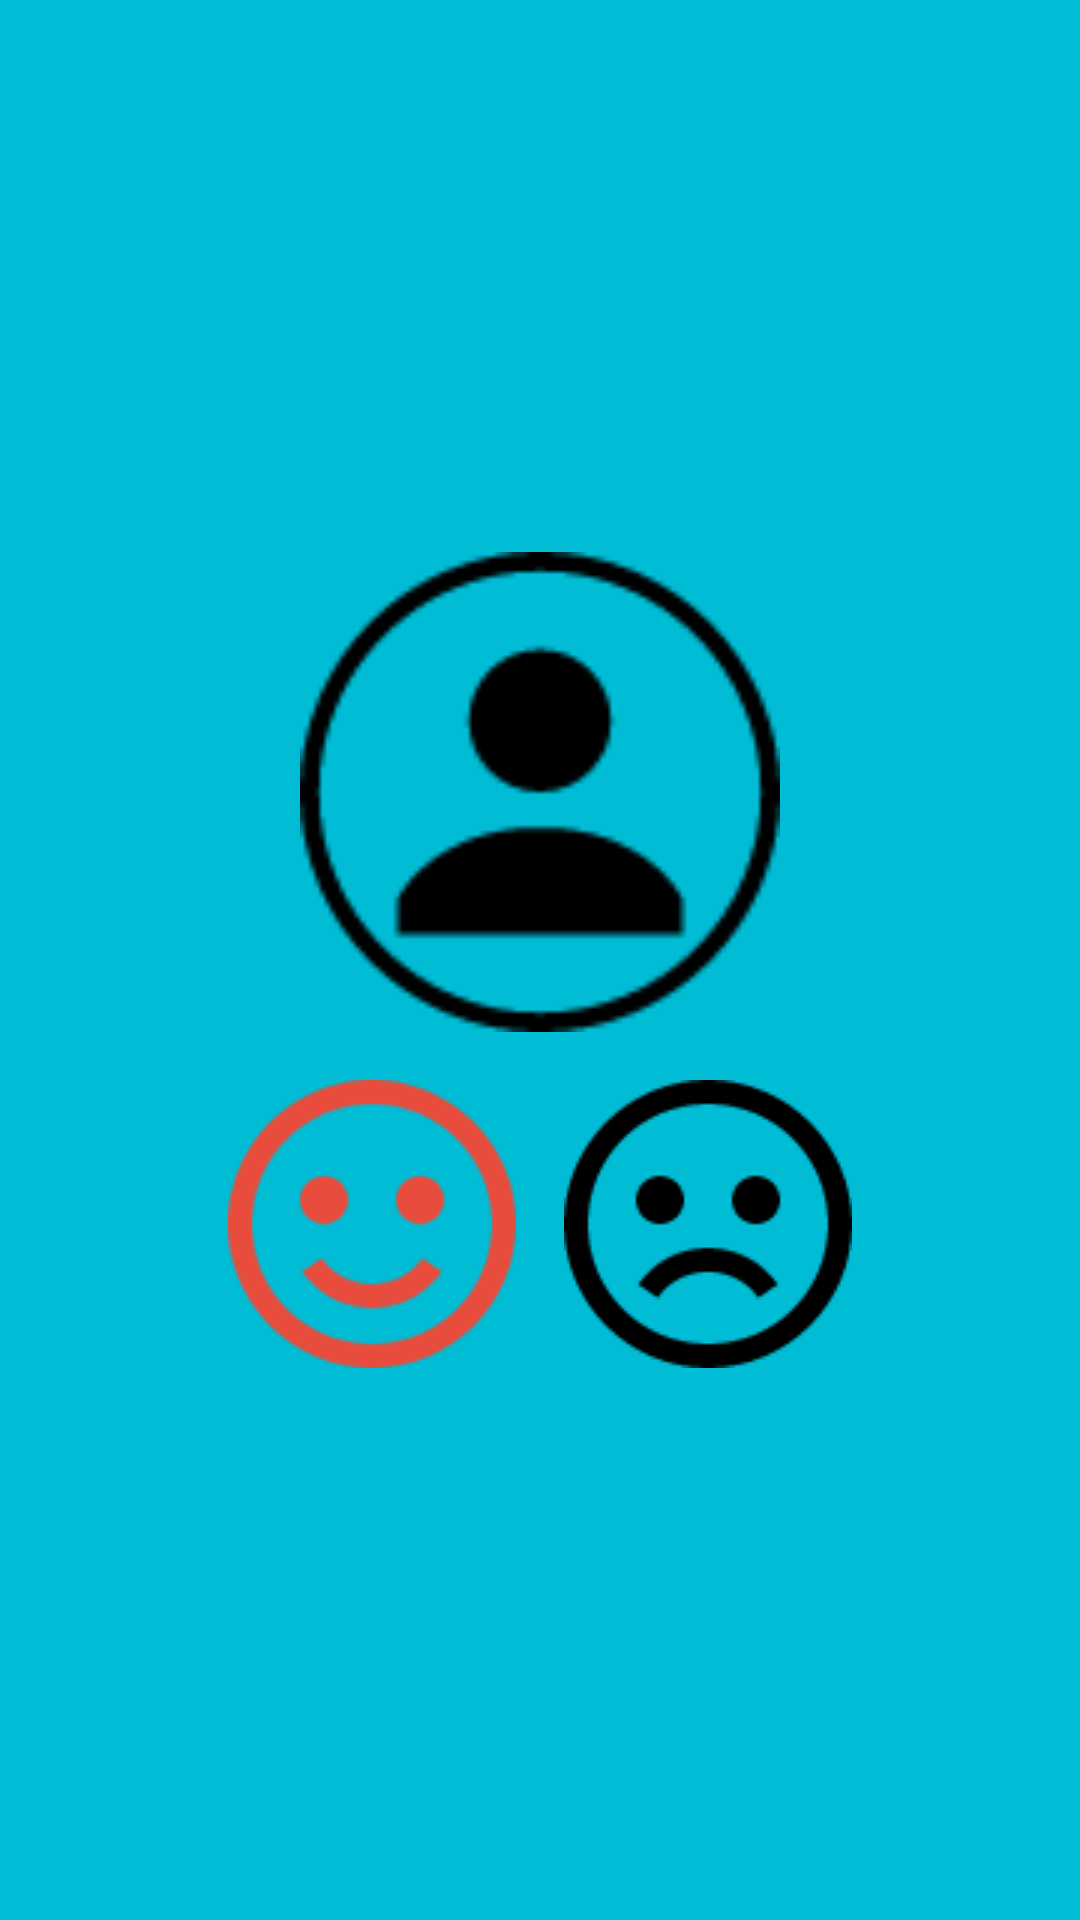

Where icons sit on this 1080 x 1920 app screen, as (x1,y1,x2,y2):
happy: (228,1080,516,1368)
sad: (564,1080,852,1368)
